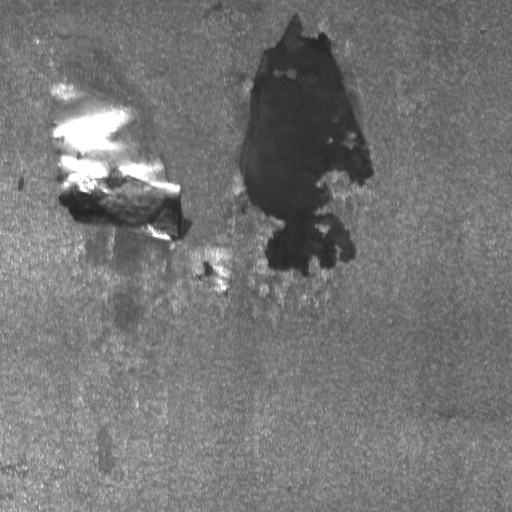qiaopi: (239, 17, 374, 276), (50, 74, 186, 249)
